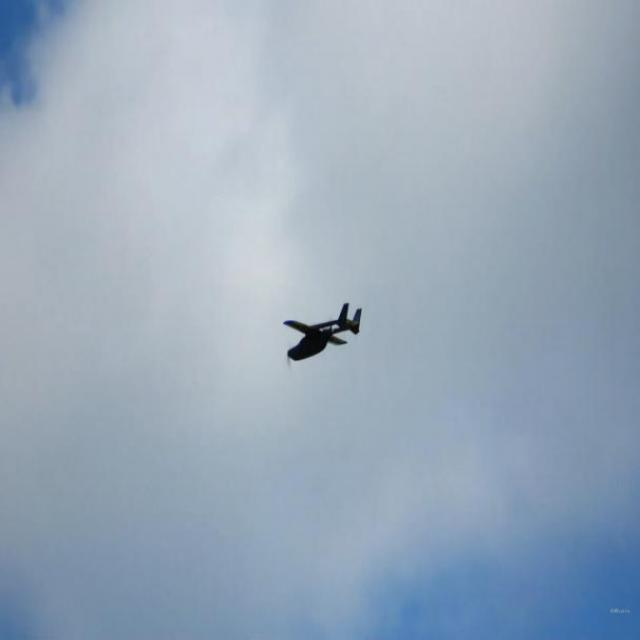iha: (310, 331, 335, 335), (610, 609, 629, 613)
